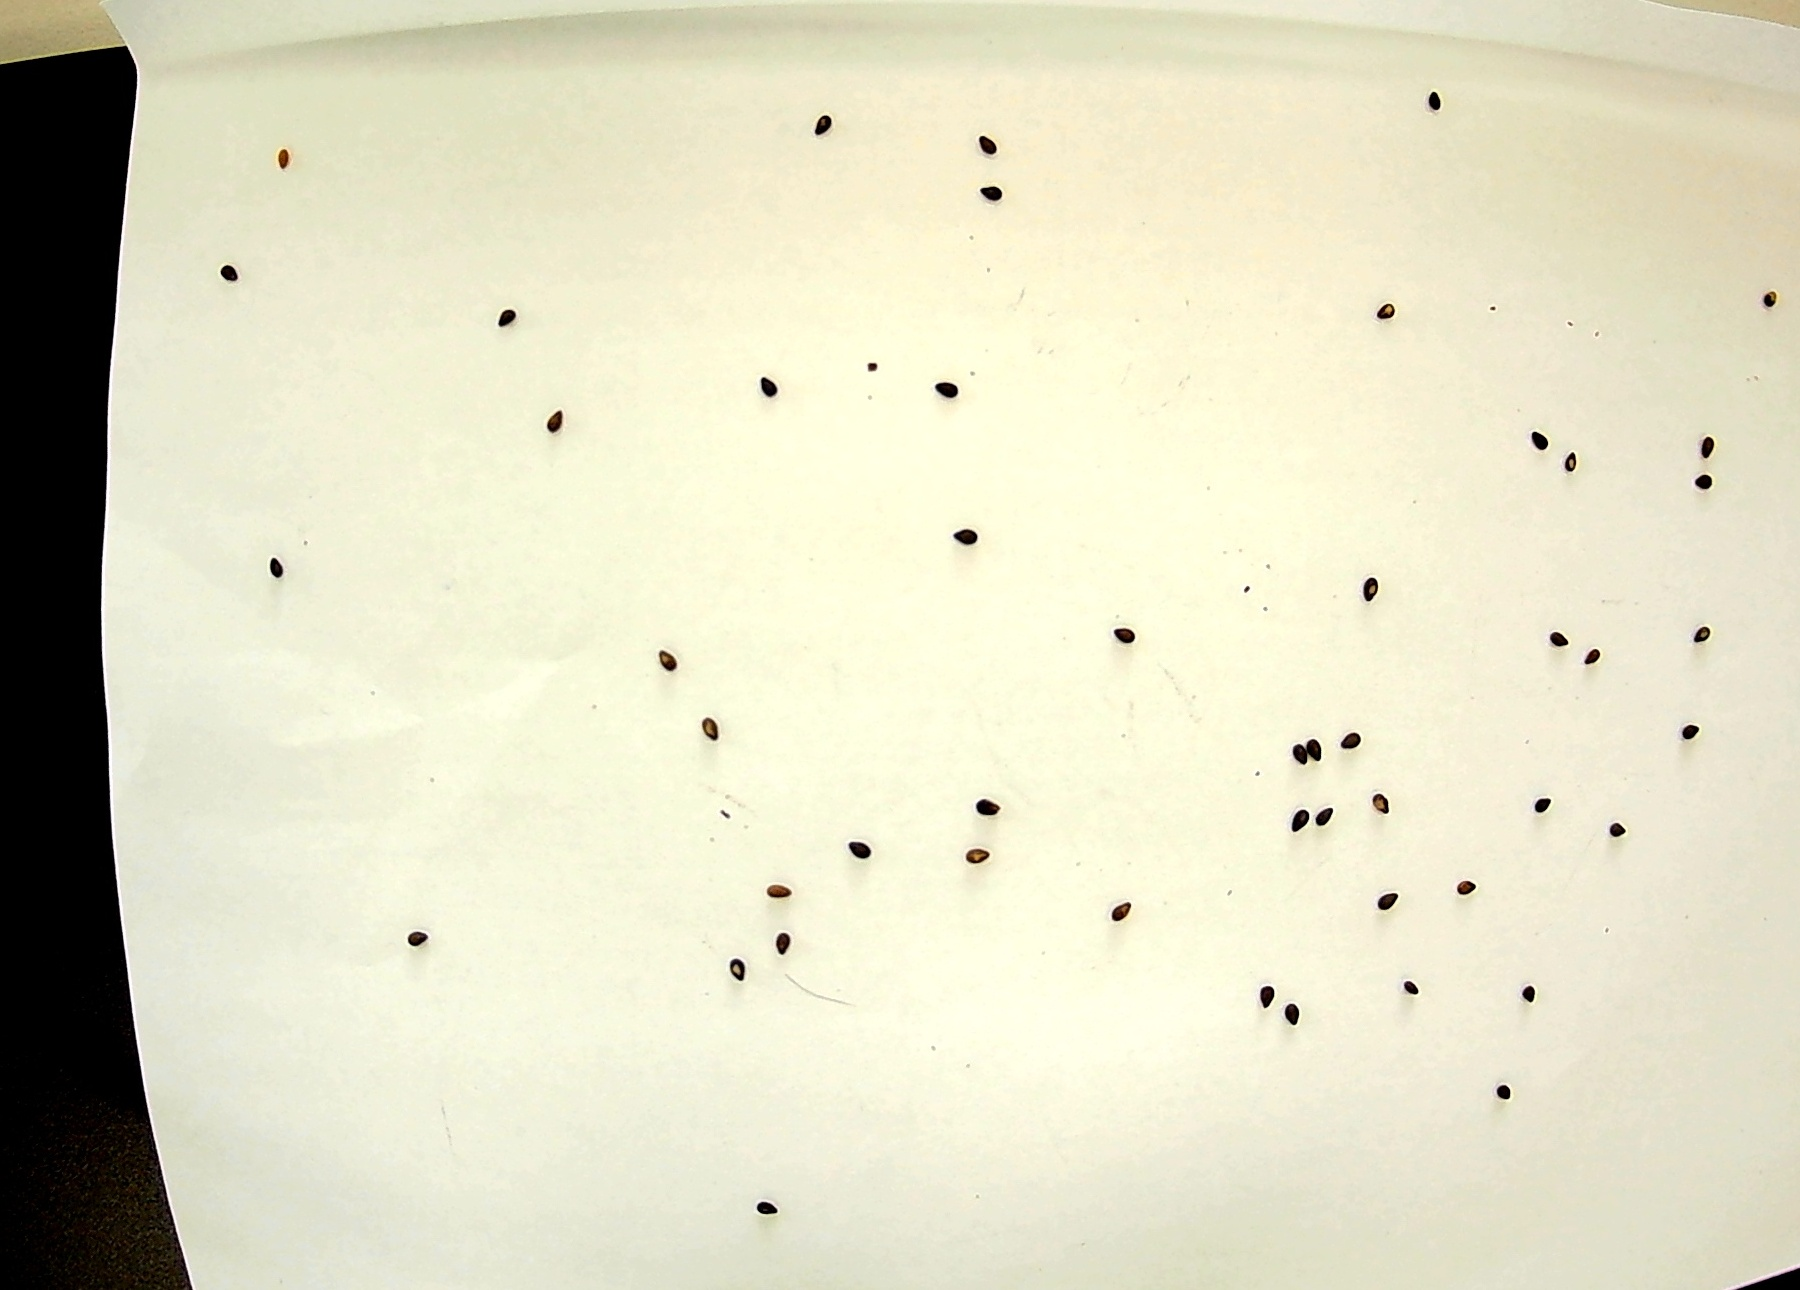sesami: (205, 255, 241, 289), (260, 140, 296, 173), (480, 303, 516, 336), (534, 396, 571, 430), (253, 543, 289, 577), (720, 951, 756, 984), (760, 920, 797, 954), (696, 718, 733, 751), (653, 637, 689, 670), (964, 838, 1000, 871), (974, 789, 1010, 822), (938, 366, 974, 399), (981, 130, 1017, 163), (808, 107, 844, 141), (1101, 611, 1137, 645), (1097, 899, 1133, 933), (1273, 1002, 1309, 1036), (1494, 1081, 1531, 1114), (1455, 866, 1492, 899), (1369, 887, 1405, 920), (1310, 739, 1347, 772), (1281, 737, 1317, 771), (1277, 804, 1313, 838), (1554, 437, 1591, 470), (1693, 433, 1729, 466), (1693, 465, 1729, 498), (1413, 87, 1450, 120), (393, 927, 428, 961), (758, 882, 793, 916), (751, 1187, 786, 1220), (832, 826, 867, 860), (947, 518, 982, 551), (1520, 980, 1554, 1014), (1360, 780, 1395, 814), (1347, 726, 1381, 759), (1300, 799, 1335, 832), (1605, 818, 1640, 852), (977, 170, 1013, 202), (751, 369, 787, 401), (1242, 977, 1278, 1009), (1393, 974, 1429, 1007), (1528, 785, 1564, 817), (1681, 716, 1718, 748), (1691, 616, 1727, 648), (1577, 646, 1613, 679), (1545, 623, 1581, 655), (1351, 572, 1387, 605), (1528, 429, 1564, 461), (1751, 269, 1787, 302), (1369, 302, 1405, 334)
